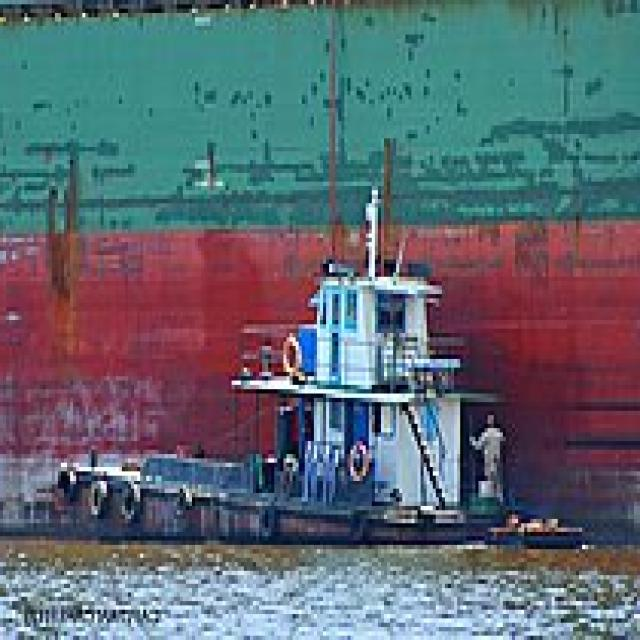Tanker: (3, 0, 640, 536)
